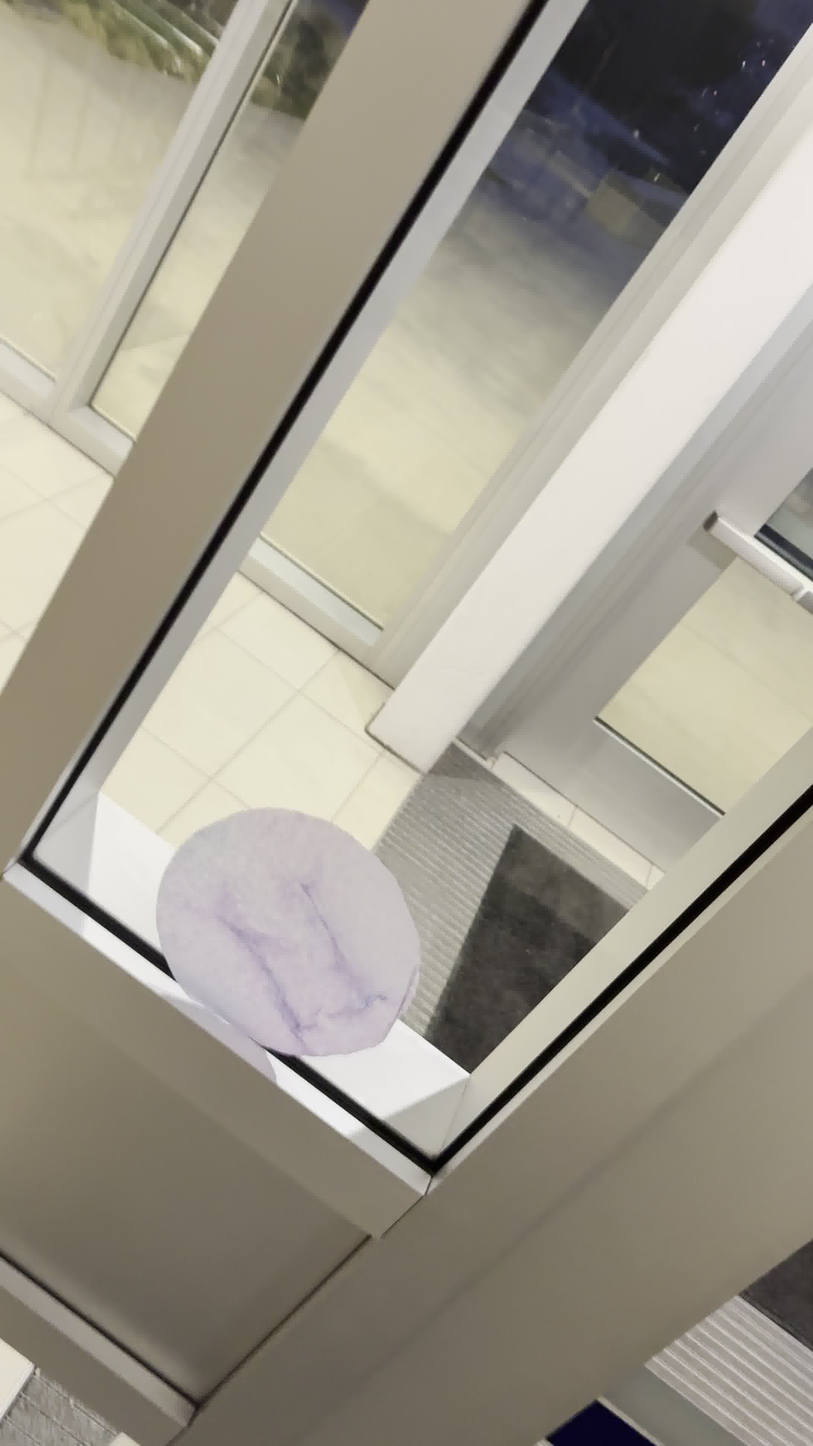Target: (148, 801, 423, 1062)
